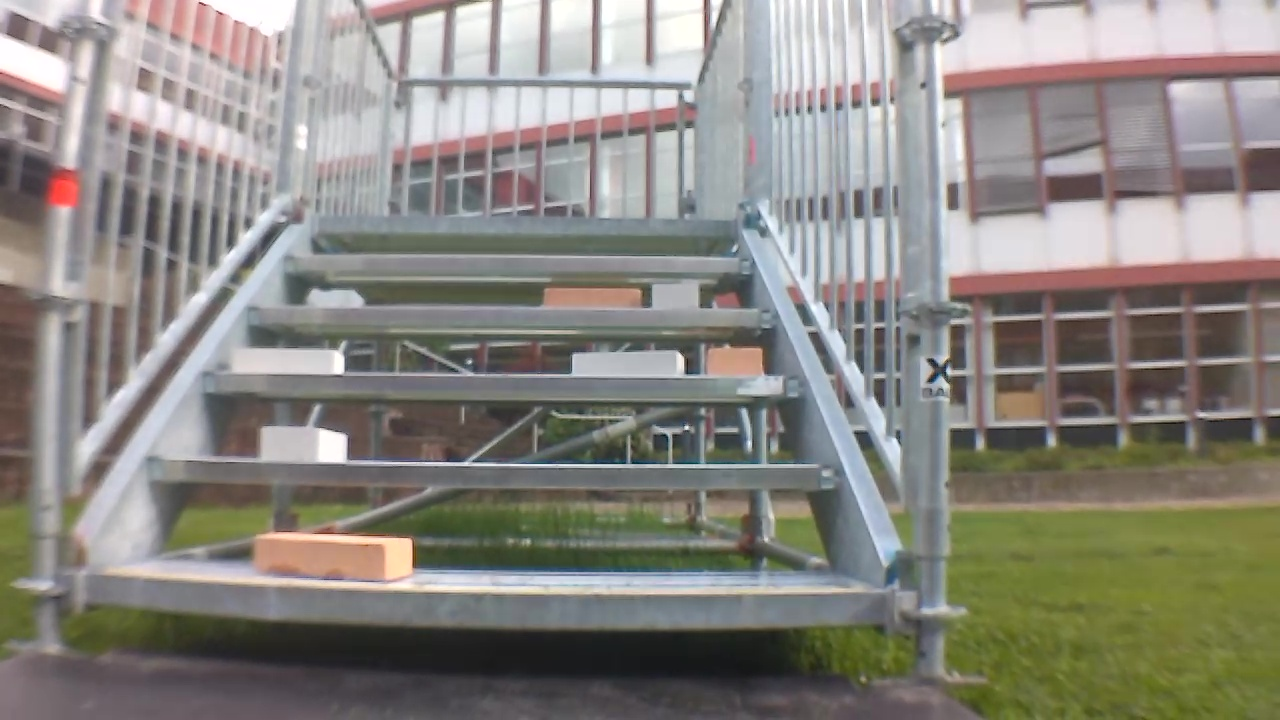brick: (254, 534, 412, 580), (572, 350, 685, 376), (262, 428, 346, 462), (233, 347, 343, 372), (544, 288, 638, 306), (710, 348, 761, 376), (654, 284, 697, 308)
edge: (87, 572, 886, 630), (146, 458, 835, 489), (204, 373, 803, 398), (249, 306, 775, 327), (318, 215, 737, 237), (283, 255, 750, 274)
stairs: (20, 3, 965, 677)
steps: (78, 207, 904, 641)
